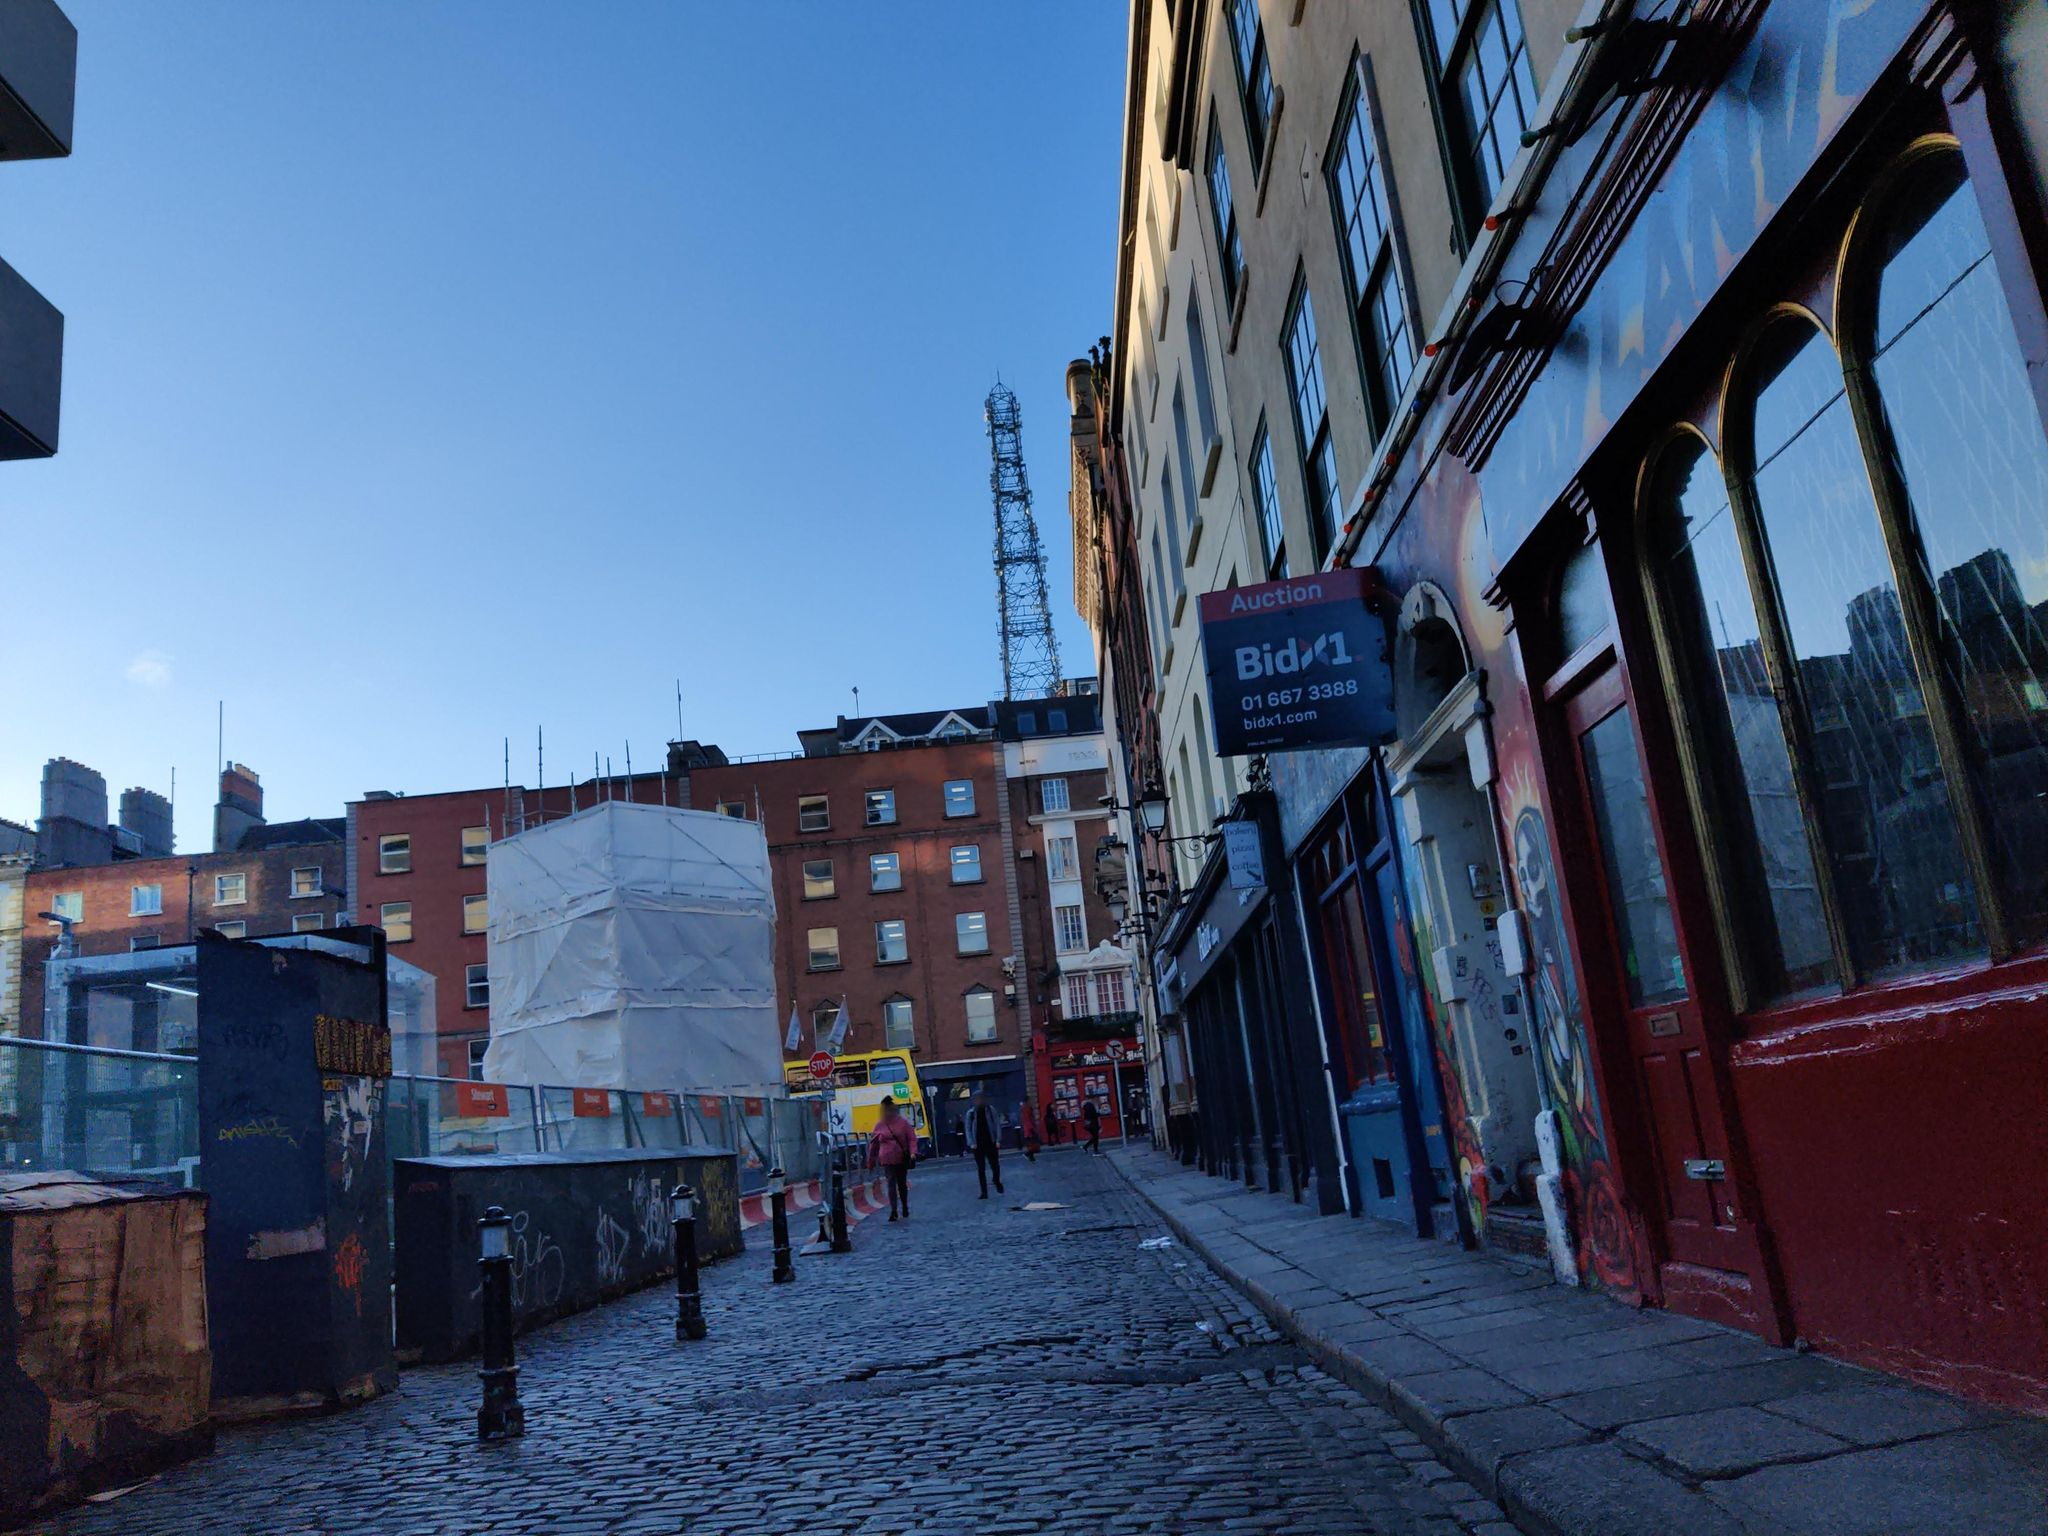property sign: (1179, 557, 1430, 753)
